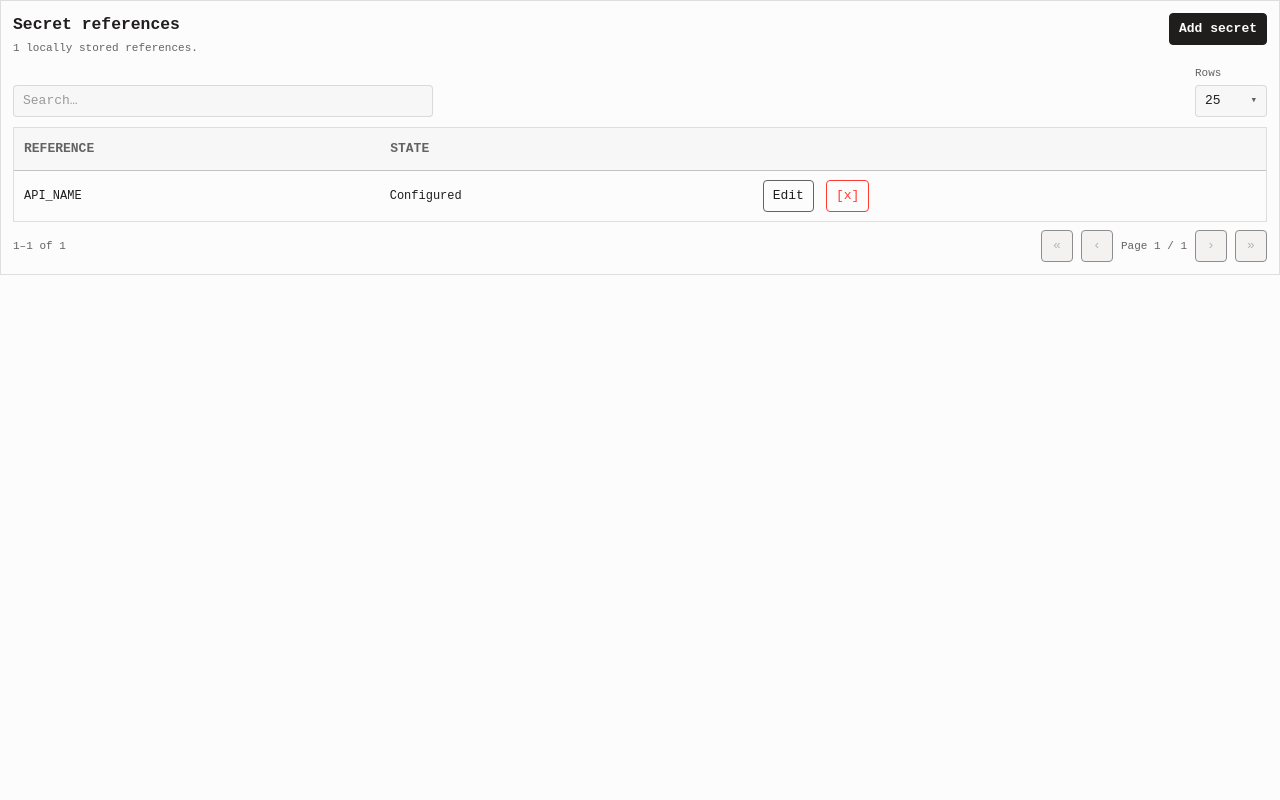
it: deleting a reference reports success and failure as toasts
The width and height of the screenshot is (1280, 800).
Click the button named "Delete": (848, 196) [826, 180, 869, 212]
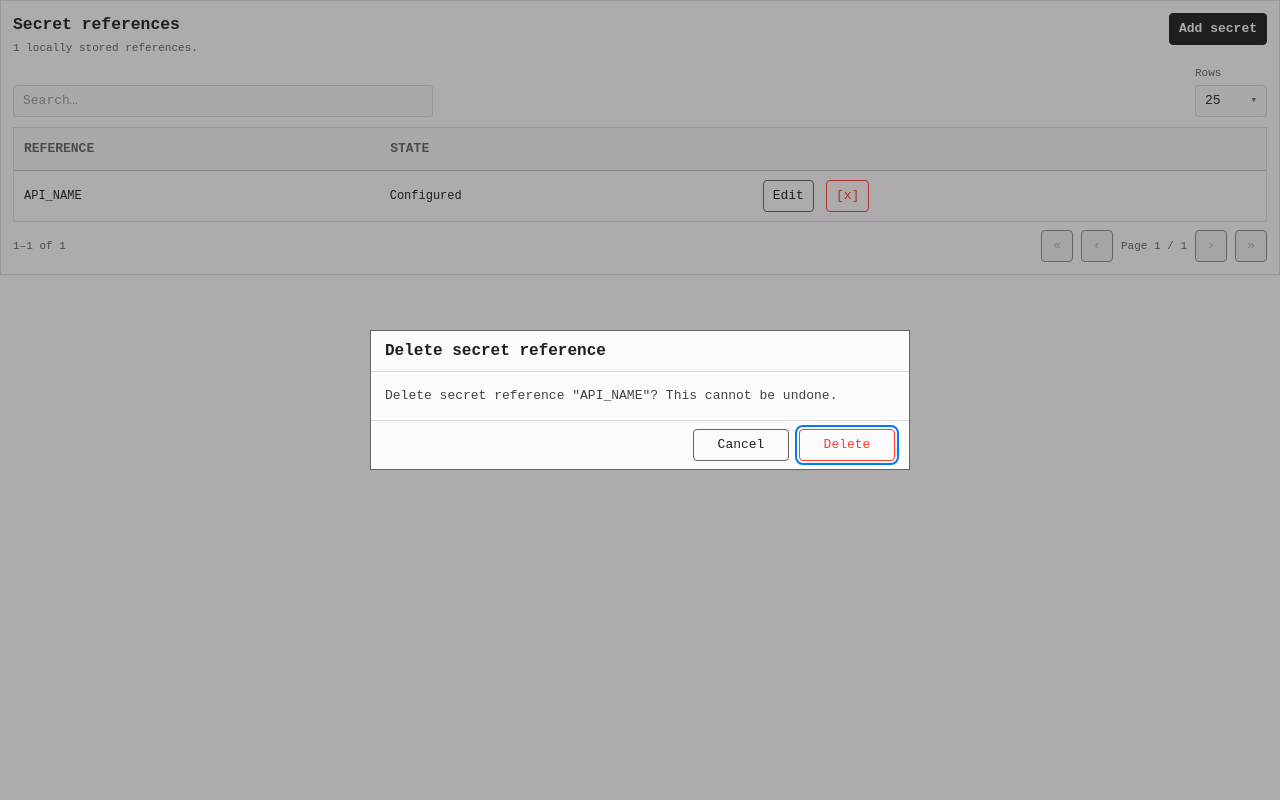
Click the button "Delete": (847, 445) [799, 429, 895, 461]
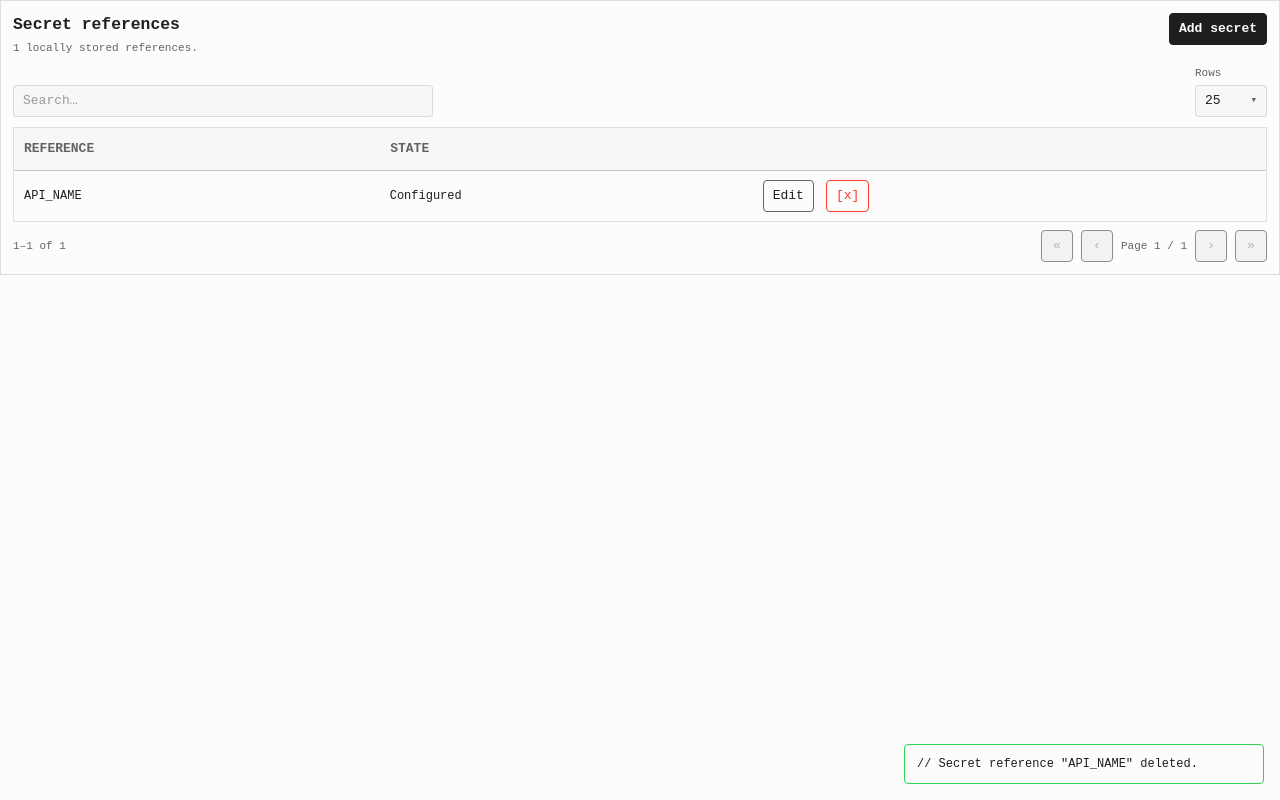
Check: the message reads "Secret reference \"API_NAME\" deleted.", box [939, 757, 1198, 771]
Click the button named "Delete": (848, 196) [826, 180, 869, 212]
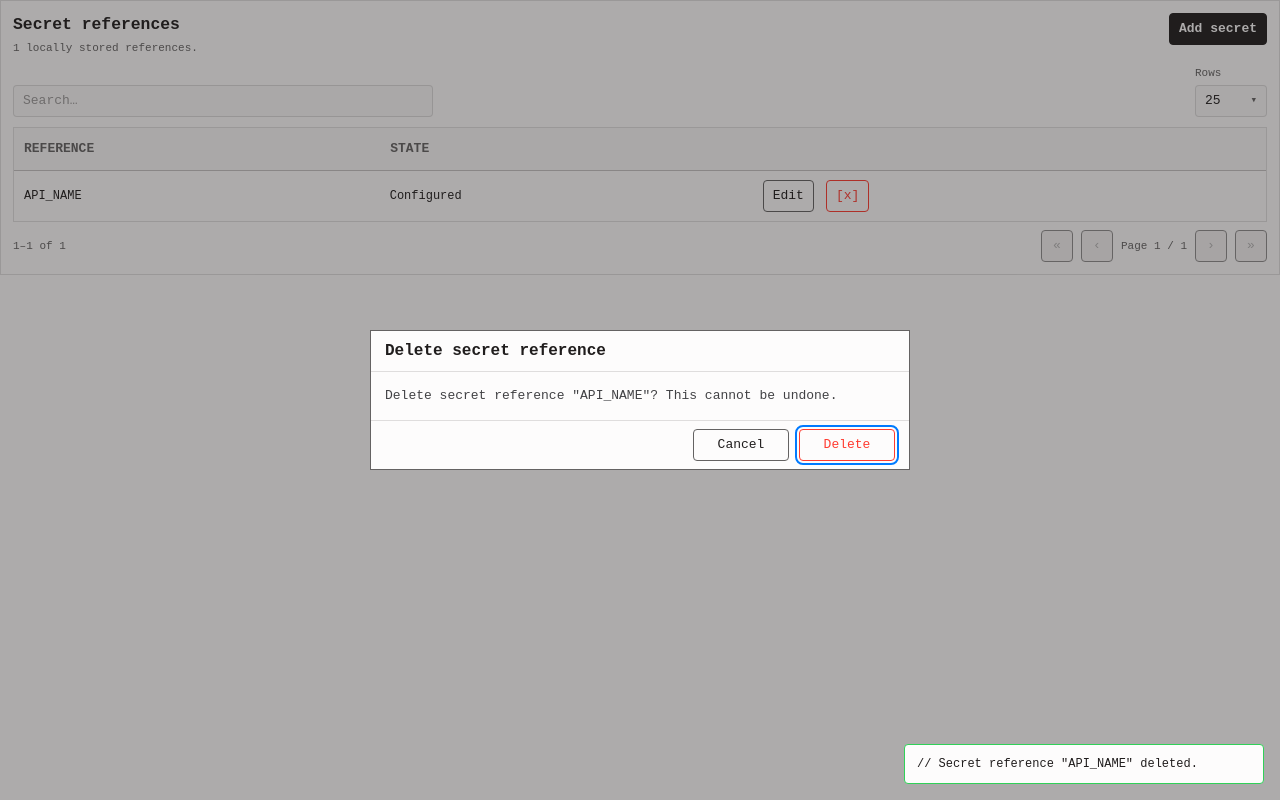
Click the button "Delete": (847, 445) [799, 429, 895, 461]
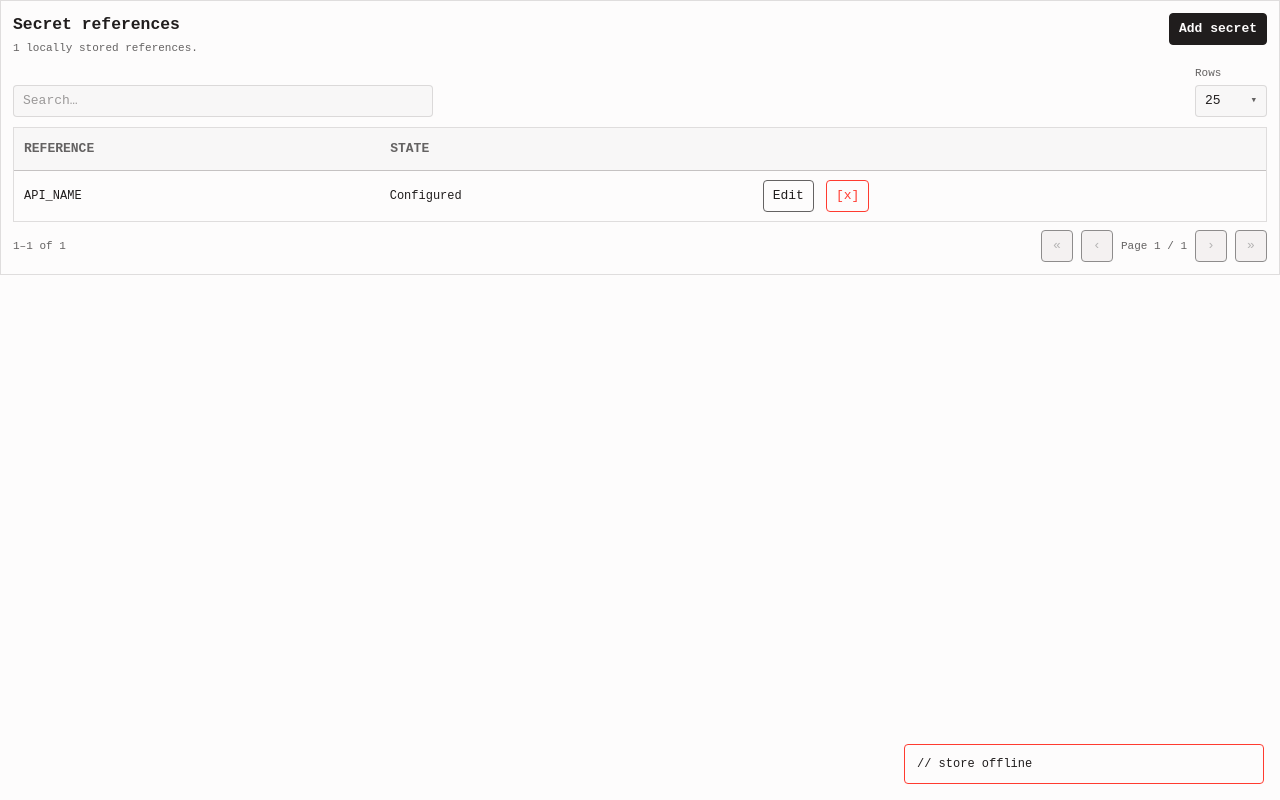
Check: the message reads "store offline", box [939, 757, 1032, 771]
